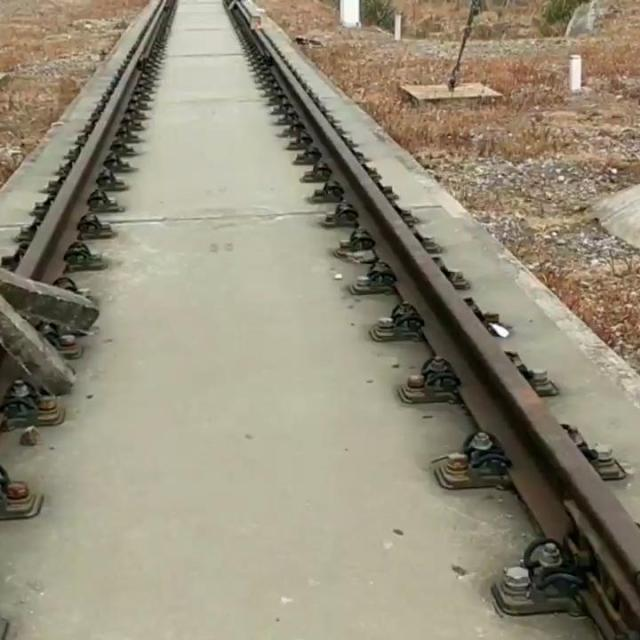rail: (225, 1, 640, 592), (17, 1, 177, 285)
